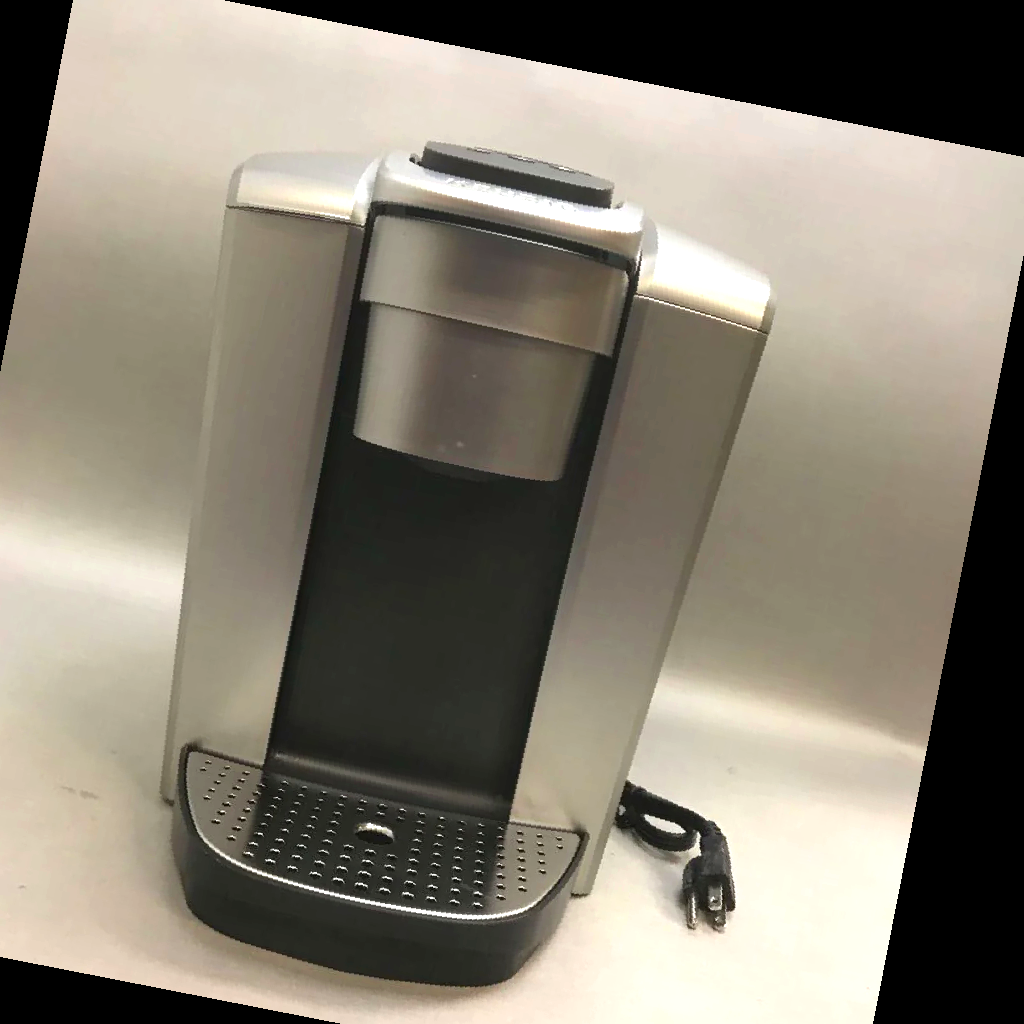platform: (348, 816, 404, 850)
